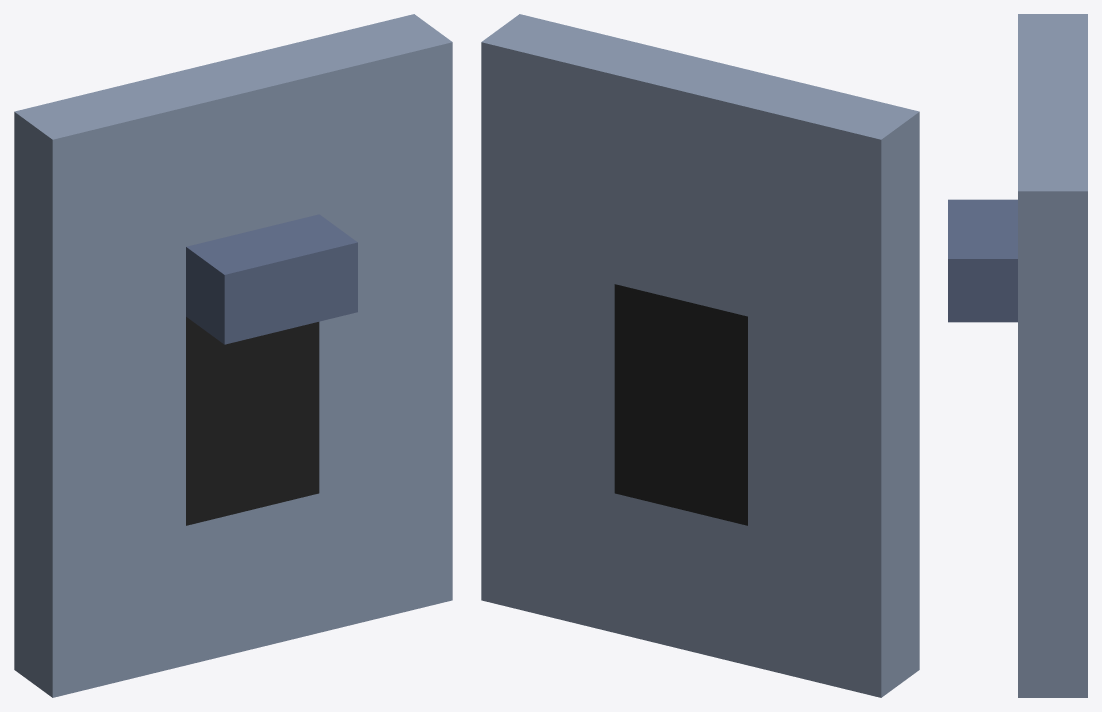
File: LightSwitch.obj
3 views of the same model, side by side, from view 1: azimuth 30°, elevation 25°; view 2: azimuth 150°, elevation 25°; view 3: azimuth 270°, elevation 25° (orthographic). The views are drawn at different scales.
Bounding box in the file's own units: 0.6 × 0.8 × 0.2.
1 material, 1 textured.
